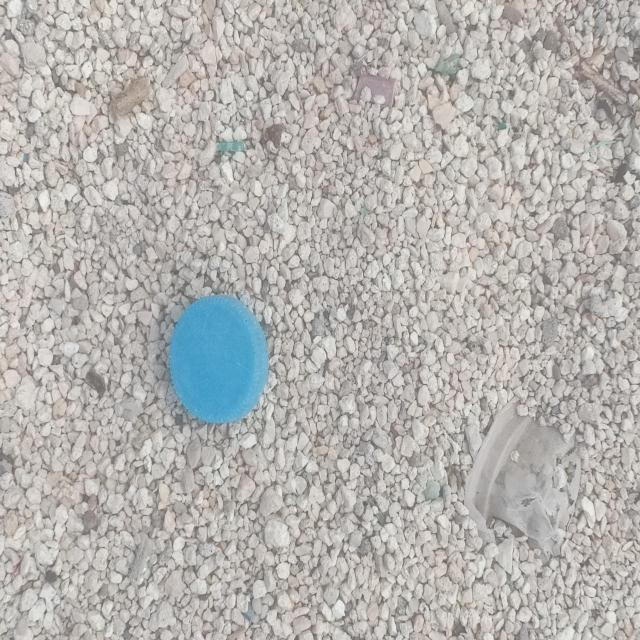plastic_waste: (462, 402, 580, 560), (168, 292, 270, 426)
